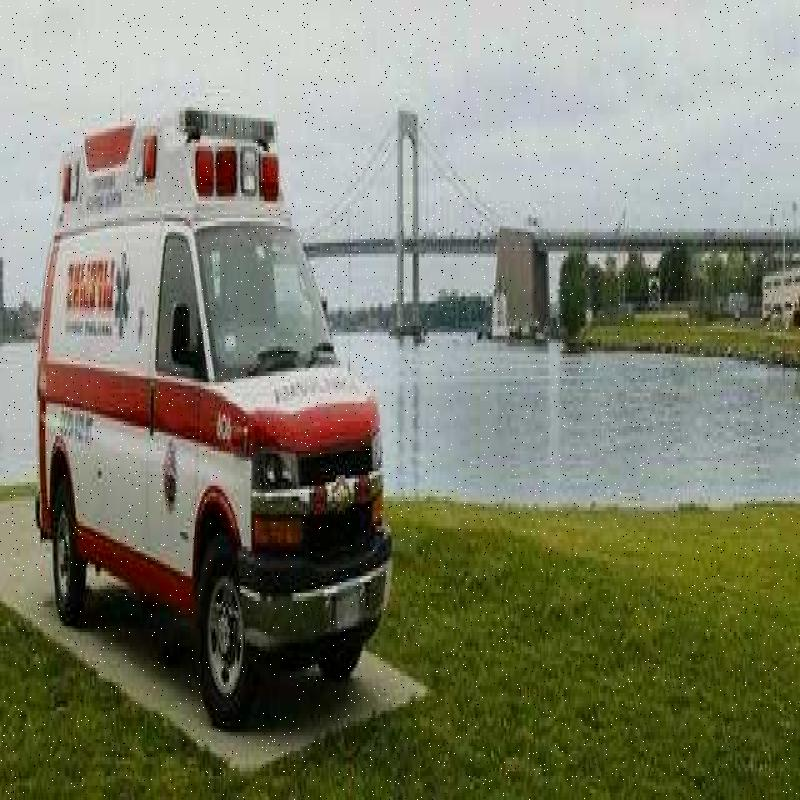AmbulanceSiren: (191, 128, 276, 223)
